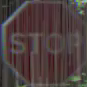Stop: (6, 4, 78, 80)
